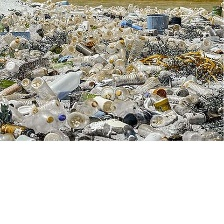bottle: (60, 15, 178, 195)
